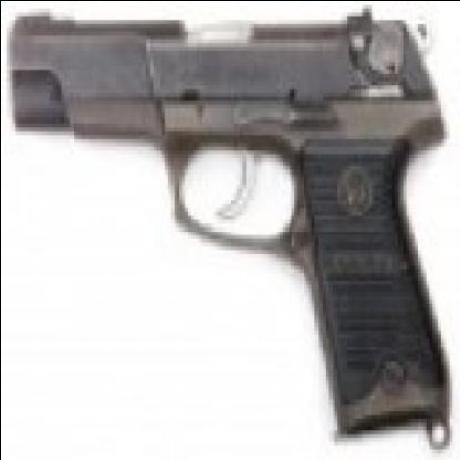weapon: (6, 0, 452, 450)
